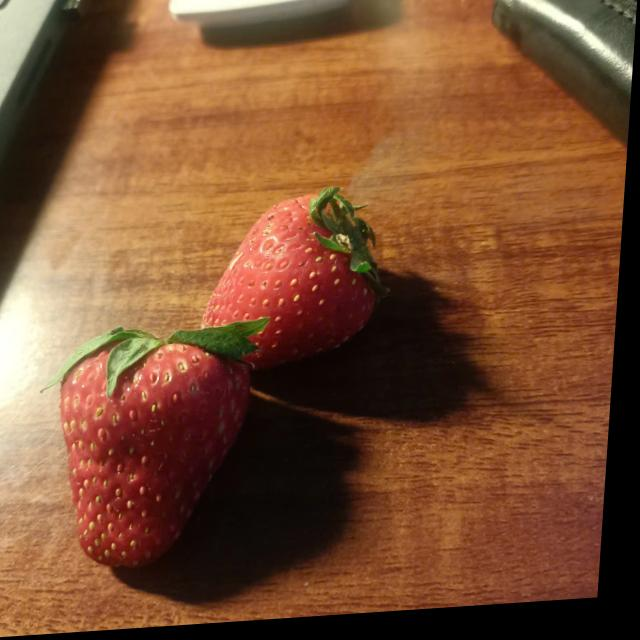DauTay: (27, 323, 262, 575), (192, 191, 392, 370)
